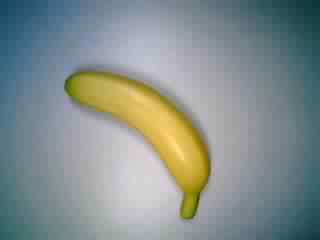banana: (61, 64, 213, 221)
